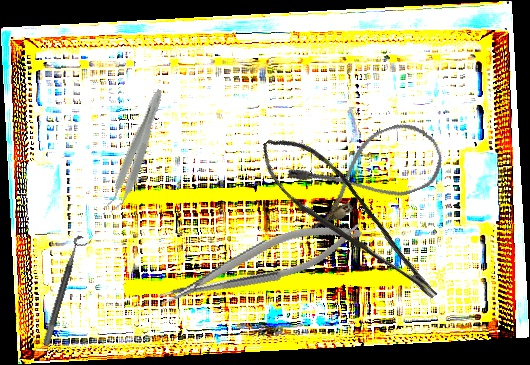Cannula: (285, 113, 451, 232)
Fixation Ring: (42, 234, 92, 349)
Micro Scissor: (249, 116, 444, 329)
Needle Holder: (151, 210, 369, 316)
Tissue Forceps: (102, 85, 168, 217)
